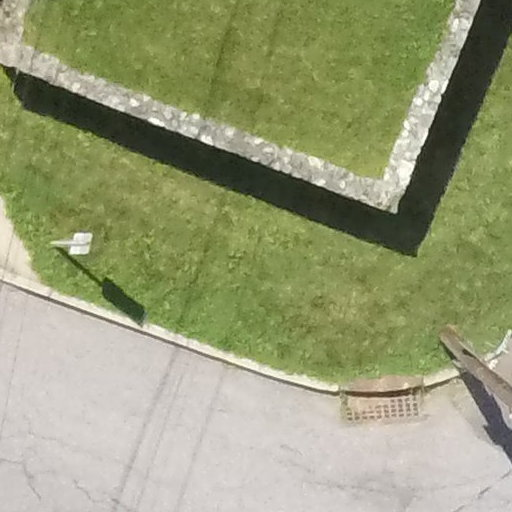drain: (323, 355, 430, 426)
